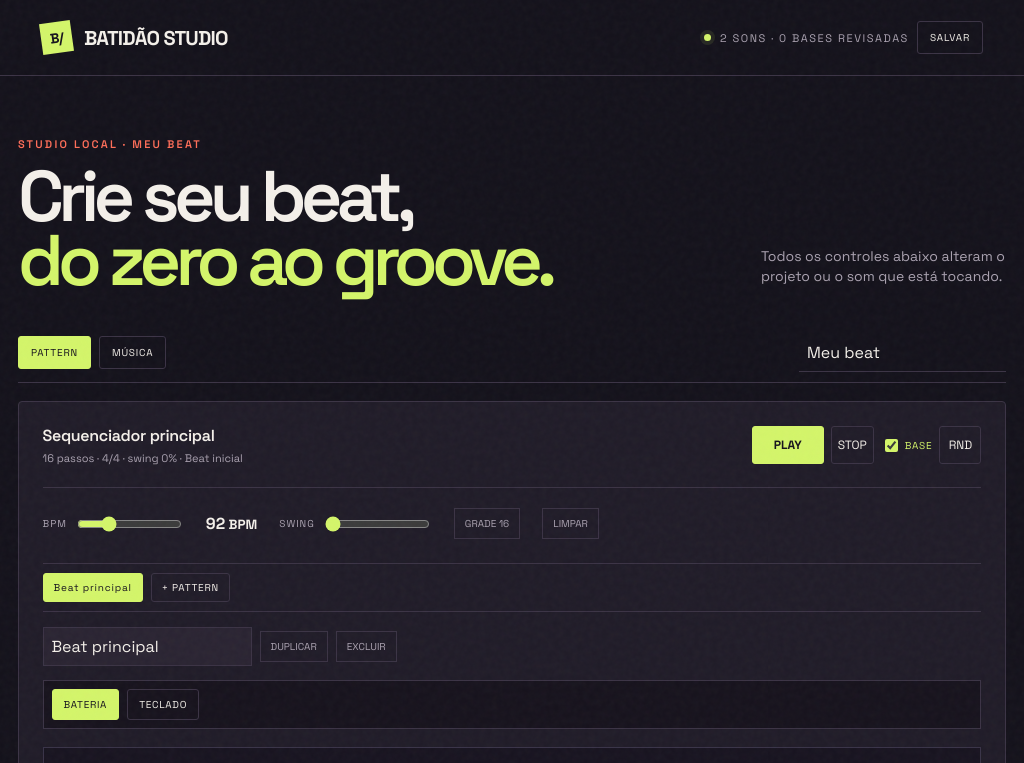
it: fluxos funcionais do estúdio › gera um groove de rap estruturado, em vez de hits aleatórios
The width and height of the screenshot is (1024, 763).
Expected: the button with aria-label "limpar grade" is shown, [542,508,599,539]
What coordinates should you click on to do the following:
click the button with aria-label "Gerar preset de rap"
I would click on:
 (960, 445)
Its box is [940,426,982,464].
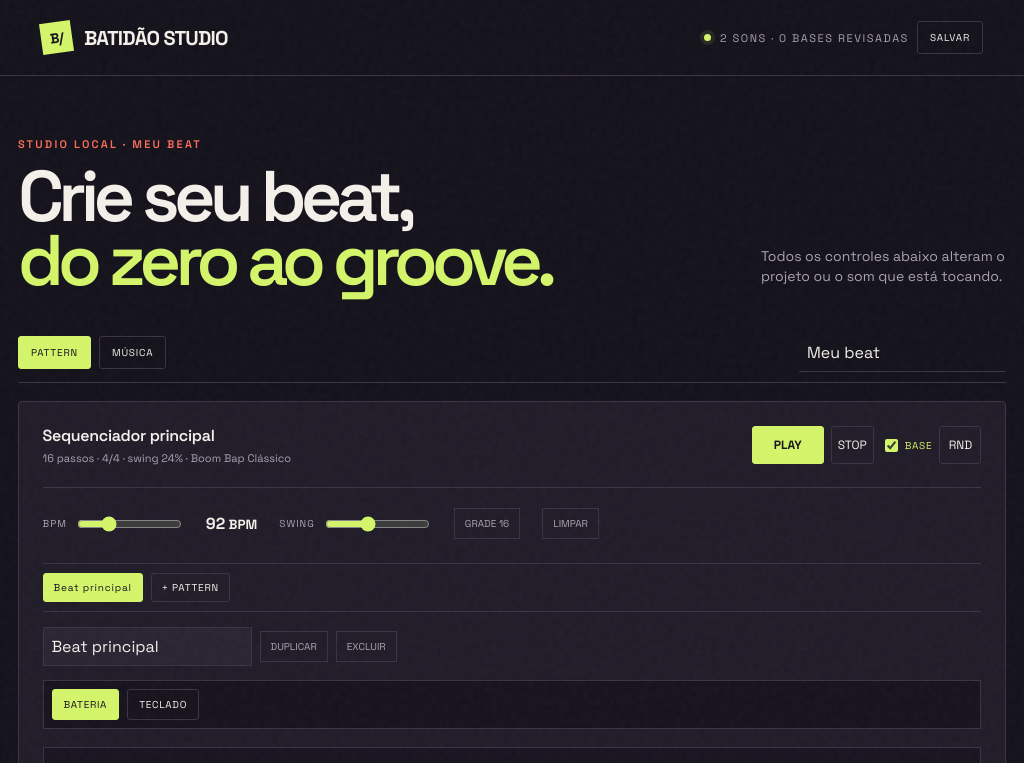
Expected: the slider labelled "BPM" holds "92", [77,516,182,532]
Result: the slider labelled "SWING" holds "24" at [325,516,430,532]
